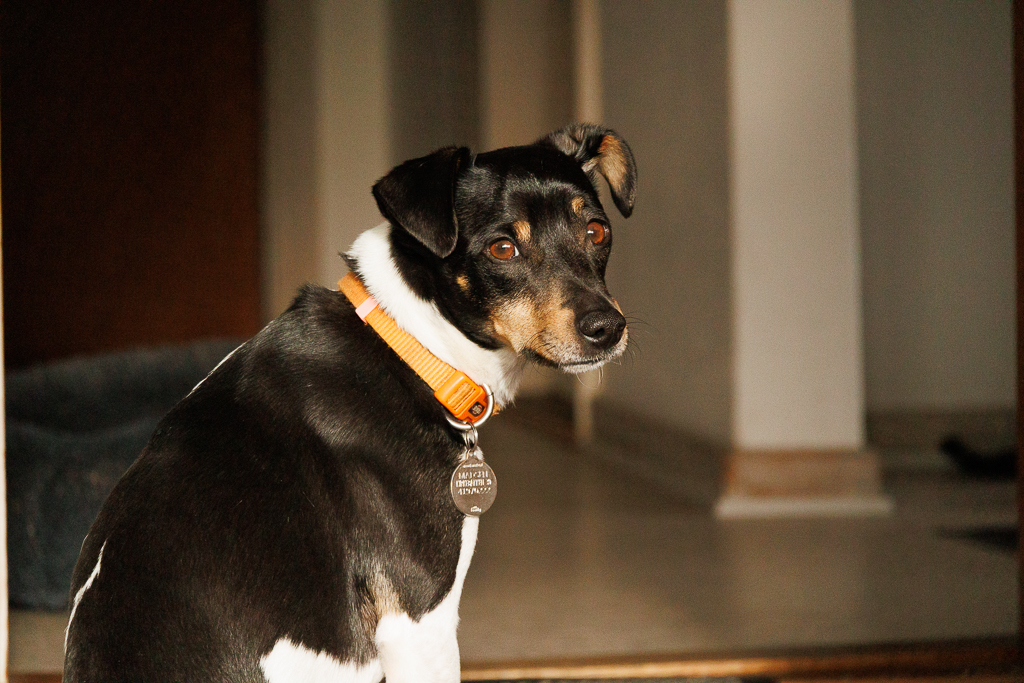Dog: (54, 114, 646, 683)
